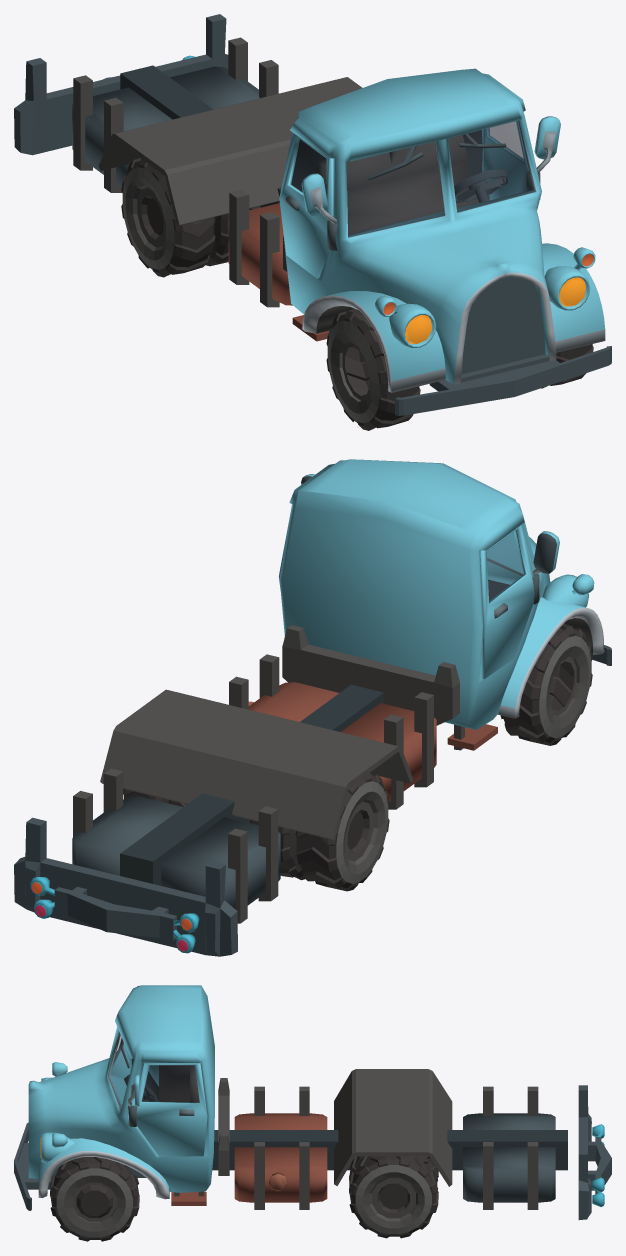
File: truck_06.glb
3 views of the same model, one above another, from view 1: azimuth 30°, elevation 25°; view 2: azimuth 150°, elevation 25°; view 3: azimuth 270°, elevation 25° (orthographic). The views are drawn at different scales.
Parts seen in each view (by area): view 1: Truck_body.004, Truck_WheelCover.004, Truck_Engine.004, TruckModule_Laggage.003, Truck_Wheel_Back.004, Truck_Bumper.004, Truck_Wheel_Front.right.004, TruckModule_OilTank.004, Truck_Door.right.004, Truck_Chassy_Short.004, Truck_Door.left.004, Truck_Steering.004; view 2: Truck_body.004, Truck_WheelCover.004, Truck_Bumper.004, TruckModule_Laggage.003, Truck_Chassy_Short.004, TruckModule_OilTank.004, Truck_Wheel_Back.004, Truck_Wheel_Front.right.004, Truck_Door.right.004; view 3: Truck_body.004, Truck_WheelCover.004, TruckModule_OilTank.004, TruckModule_Laggage.003, Truck_Wheel_Back.004, Truck_Wheel_Front.left.004, Truck_Chassy_Short.004, Truck_Door.left.004, Truck_Bumper.004, Truck_Engine.004.
Part boxes in pixels (box(x1,y1,x2,y2)): Truck_body.004: box(283, 68, 605, 392); Truck_WheelCover.004: box(98, 77, 362, 225); Truck_Engine.004: box(395, 277, 611, 415); TruckModule_Laggage.003: box(72, 37, 278, 192); Truck_Wheel_Back.004: box(121, 158, 260, 277); Truck_Bumper.004: box(14, 14, 228, 155); Truck_Wheel_Front.right.004: box(326, 308, 420, 430); TruckModule_OilTank.004: box(228, 189, 292, 307); Truck_Door.right.004: box(279, 132, 333, 278); Truck_Chassy_Short.004: box(120, 65, 287, 271); Truck_Door.left.004: box(482, 121, 528, 200); Truck_Steering.004: box(454, 169, 507, 203); Truck_body.004: box(279, 459, 604, 750); Truck_WheelCover.004: box(100, 689, 412, 840); Truck_Bumper.004: box(14, 817, 237, 956); TruckModule_Laggage.003: box(72, 768, 280, 923); Truck_Chassy_Short.004: box(120, 625, 459, 885); TruckModule_OilTank.004: box(229, 654, 436, 809); Truck_Wheel_Back.004: box(123, 773, 389, 891); Truck_Wheel_Front.right.004: box(500, 624, 592, 745); Truck_Door.right.004: box(480, 525, 534, 679); Truck_body.004: box(28, 985, 214, 1205); Truck_WheelCover.004: box(334, 1069, 452, 1186); TruckModule_OilTank.004: box(234, 1086, 327, 1209); TruckModule_Laggage.003: box(463, 1086, 555, 1209); Truck_Wheel_Back.004: box(349, 1156, 438, 1238); Truck_Wheel_Front.left.004: box(50, 1157, 139, 1241); Truck_Chassy_Short.004: box(212, 1078, 567, 1175); Truck_Door.left.004: box(134, 1063, 207, 1156); Truck_Bumper.004: box(578, 1085, 611, 1219); Truck_Engine.004: box(14, 1122, 146, 1210).
Bounding box in the file's own units: 3.59 × 3.62 × 9.9.
Materials: 4 (3 with a texture image).
